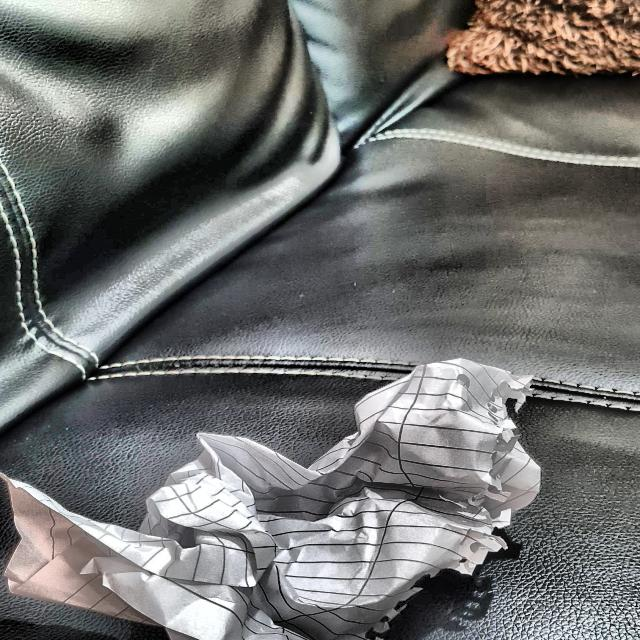paper: (15, 360, 558, 640)
